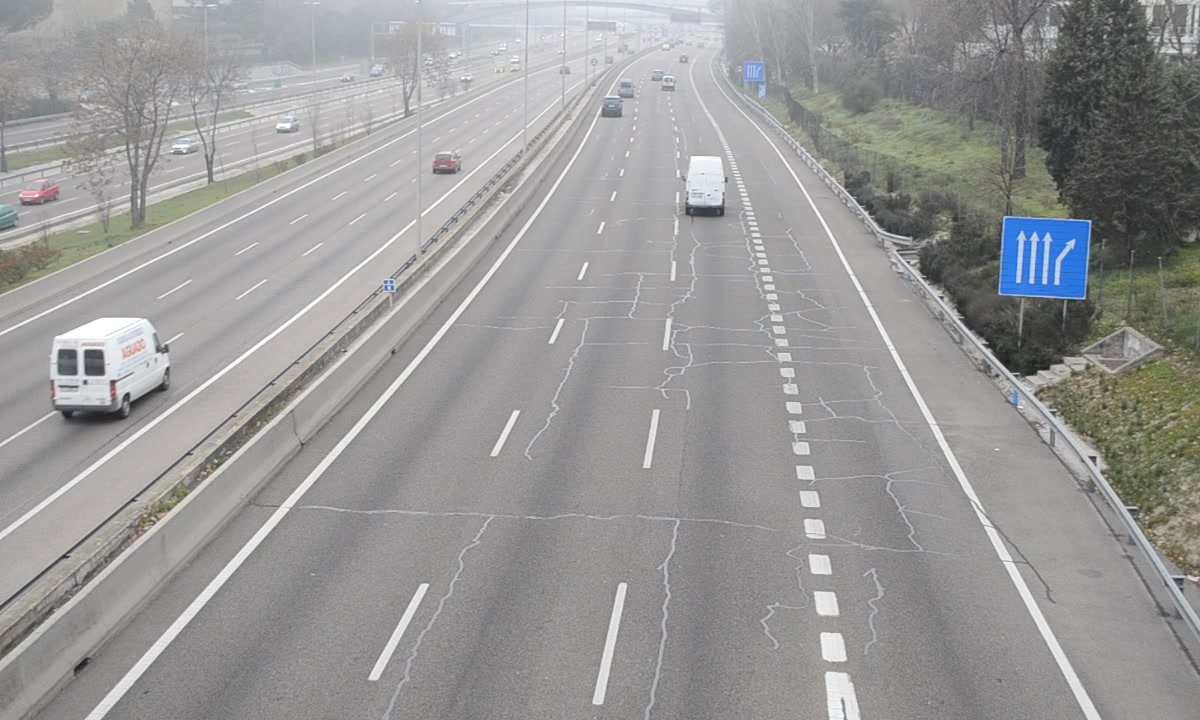car: (600, 95, 623, 118)
van: (684, 155, 727, 214)
